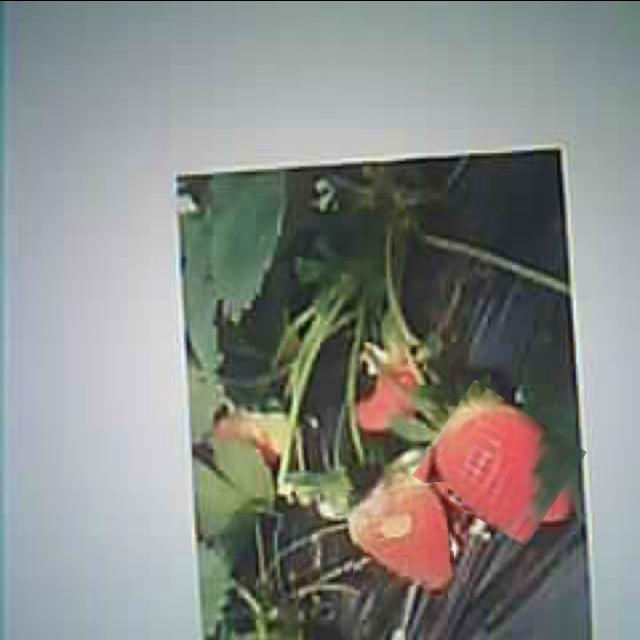strawberry: (423, 392, 577, 534), (348, 483, 454, 588)
